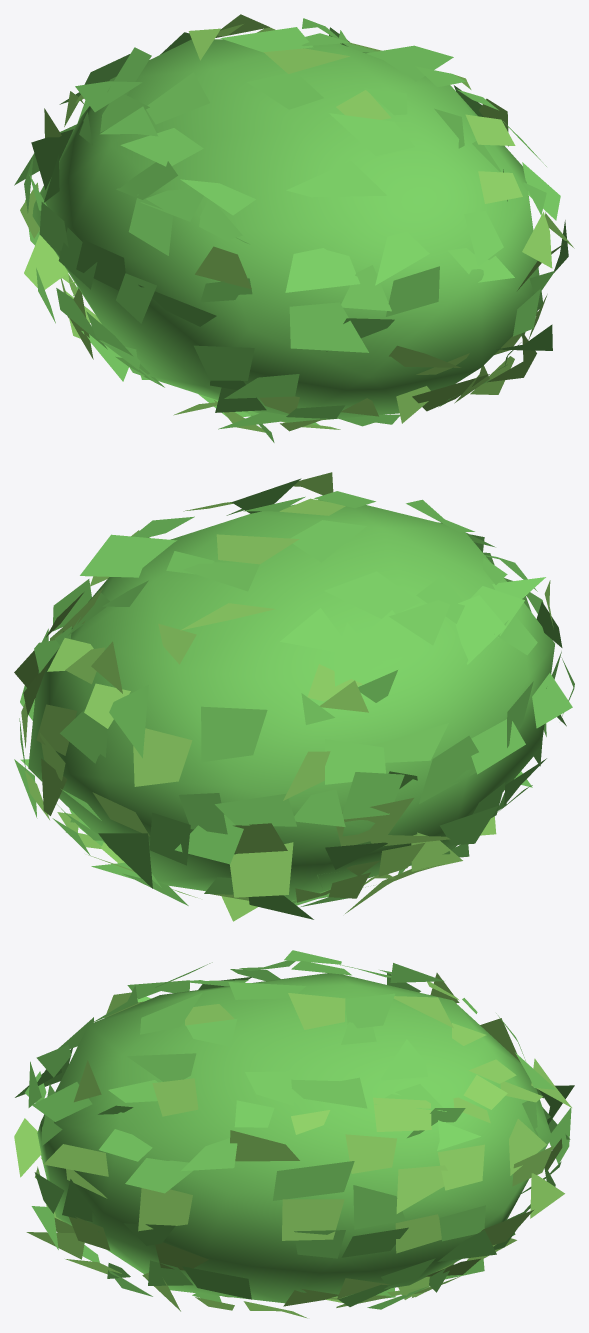
The model's file is Bush2.fbx.
The picture shows the model from 3 angles, top to bottom: view 1: azimuth 30°, elevation 25°; view 2: azimuth 150°, elevation 25°; view 3: azimuth 270°, elevation 25°; orthographic projection. The views are drawn at different scales.
Parts seen in each view (by area): view 1: Cube.002; view 2: Cube.002; view 3: Cube.002.
Part boxes in pixels (bbox=[...]): Cube.002: bbox=[14, 14, 574, 442]; Cube.002: bbox=[14, 472, 574, 921]; Cube.002: bbox=[14, 950, 574, 1318].
Bounding box in the file's own units: 186 × 127 × 222.
